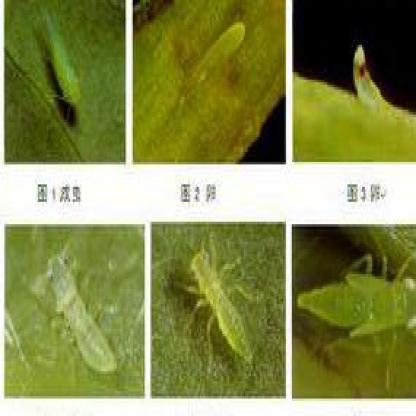Green-Leafhopper: (297, 247, 416, 377), (176, 238, 263, 369), (43, 245, 118, 380), (182, 16, 249, 98), (36, 7, 82, 113), (346, 47, 406, 121)
